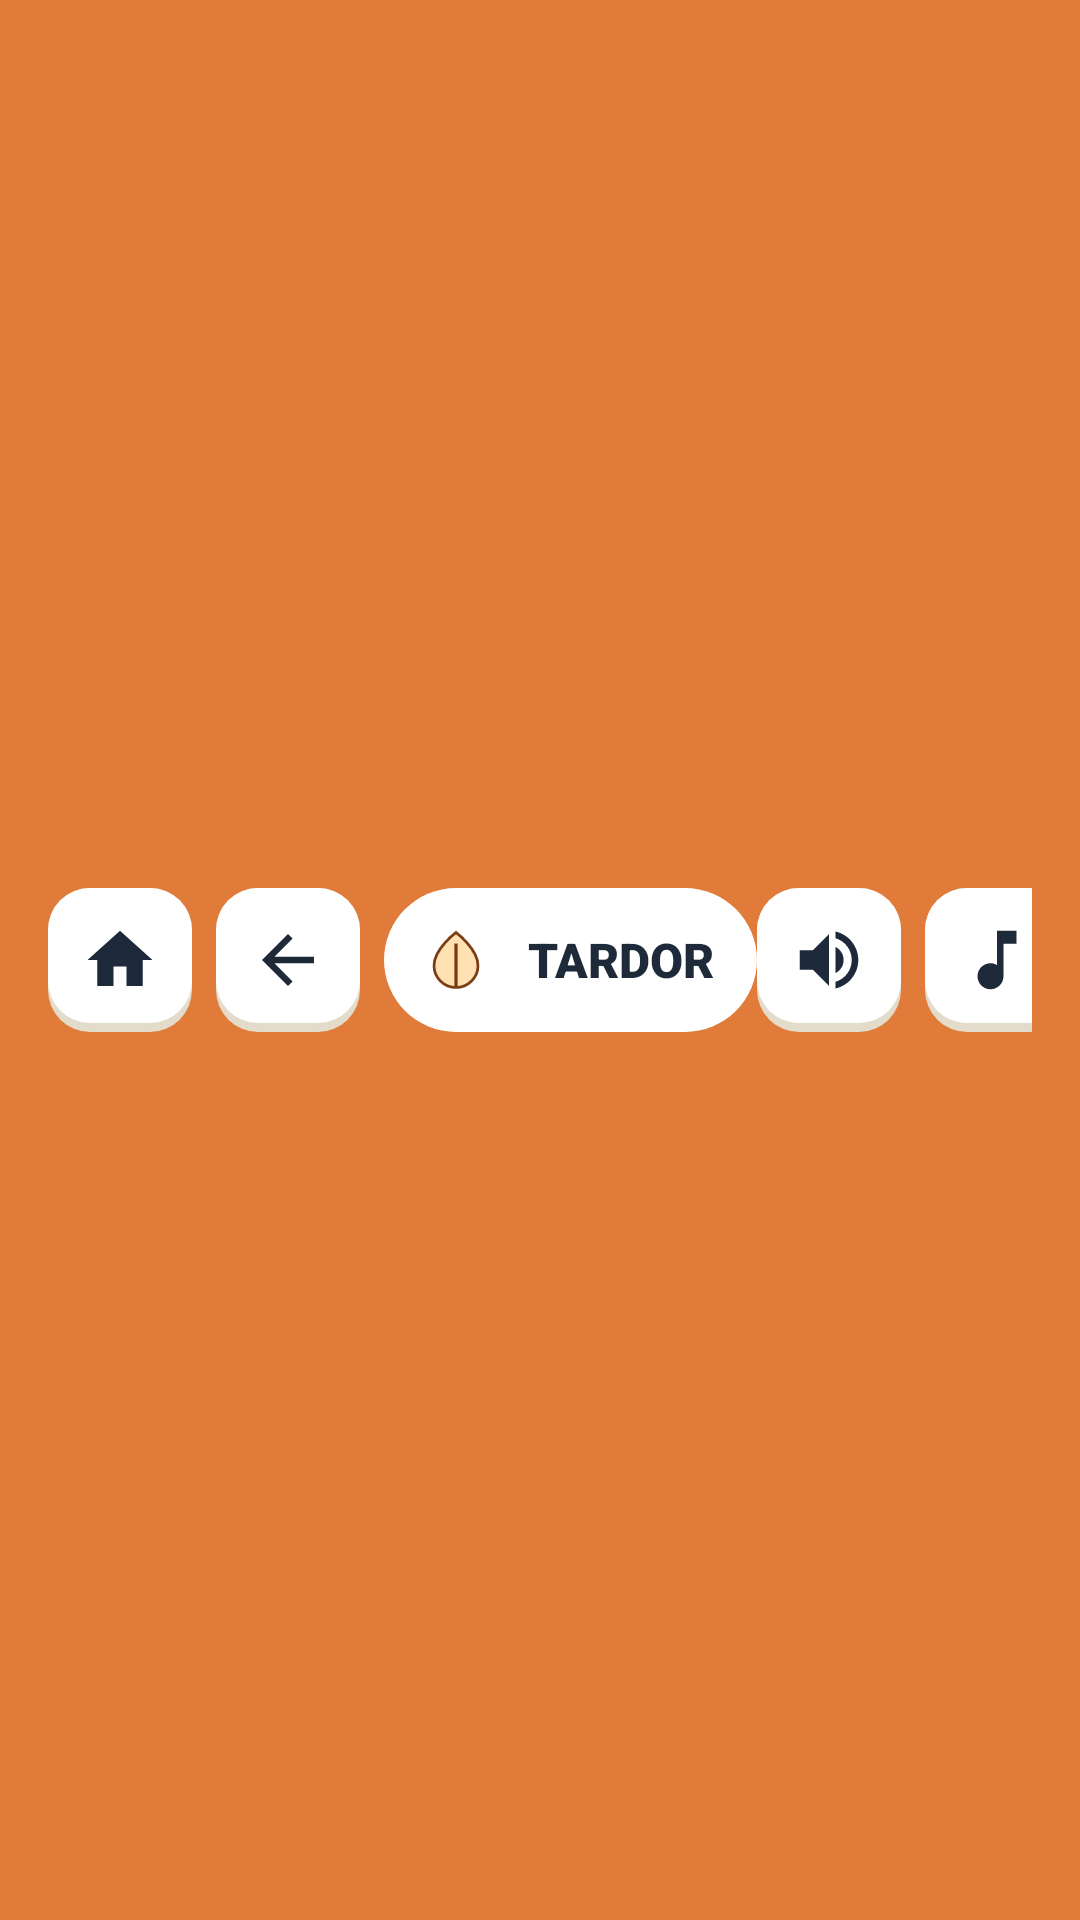

Screen size 1080px×1920px. Icon name, then its center in pixels as (x,y):
Enrere: (288,960)
Escoltar: (829,960)
Inici: (120,960)
Música: (978,960)
otono: (456,960)
